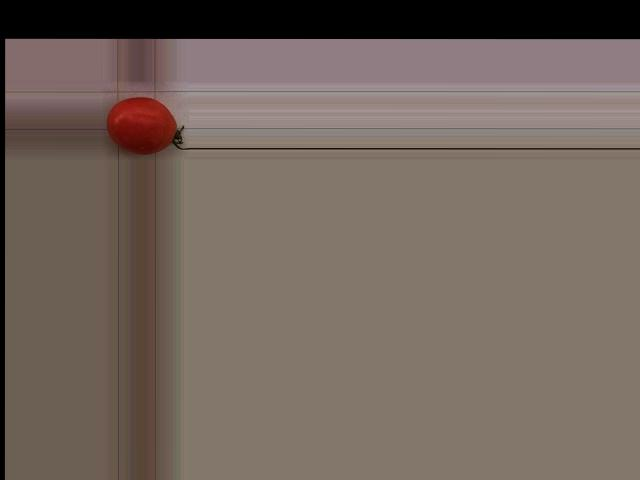tomato: (106, 97, 177, 154)
